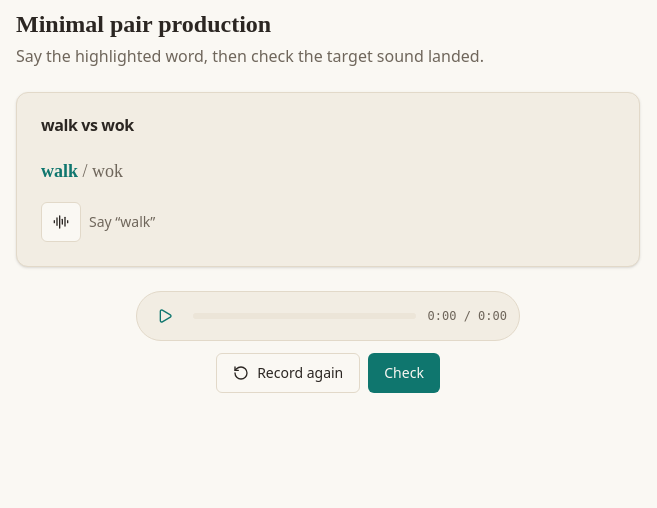
it: ProductionDrill › should show a pass verdict when only a non-target phoneme is flagged
The image size is (657, 508).
Click the button "Check".
click(404, 373)  # box [368,353,440,393]
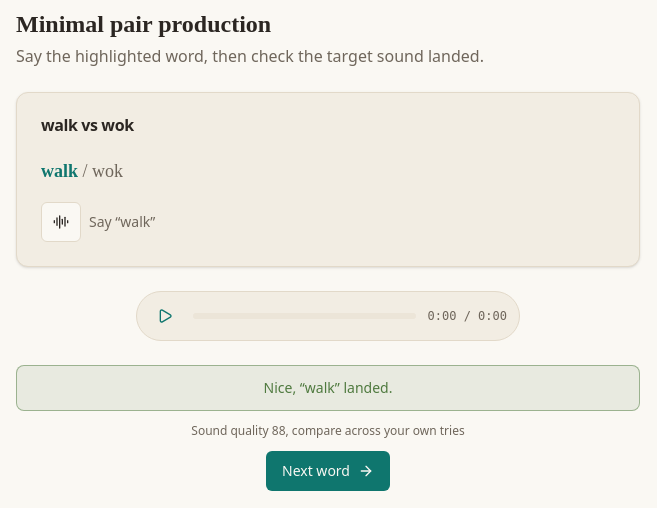
Result: the message shows "landed" at [335,378,392,397]
